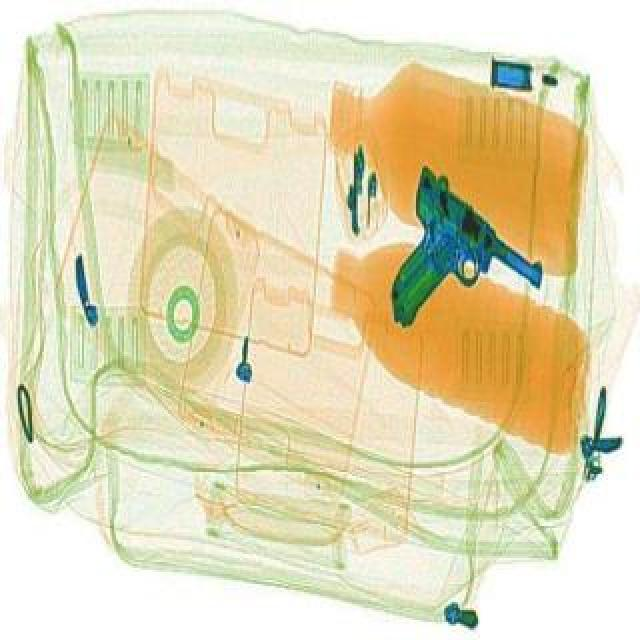gun: (326, 160, 554, 368)
